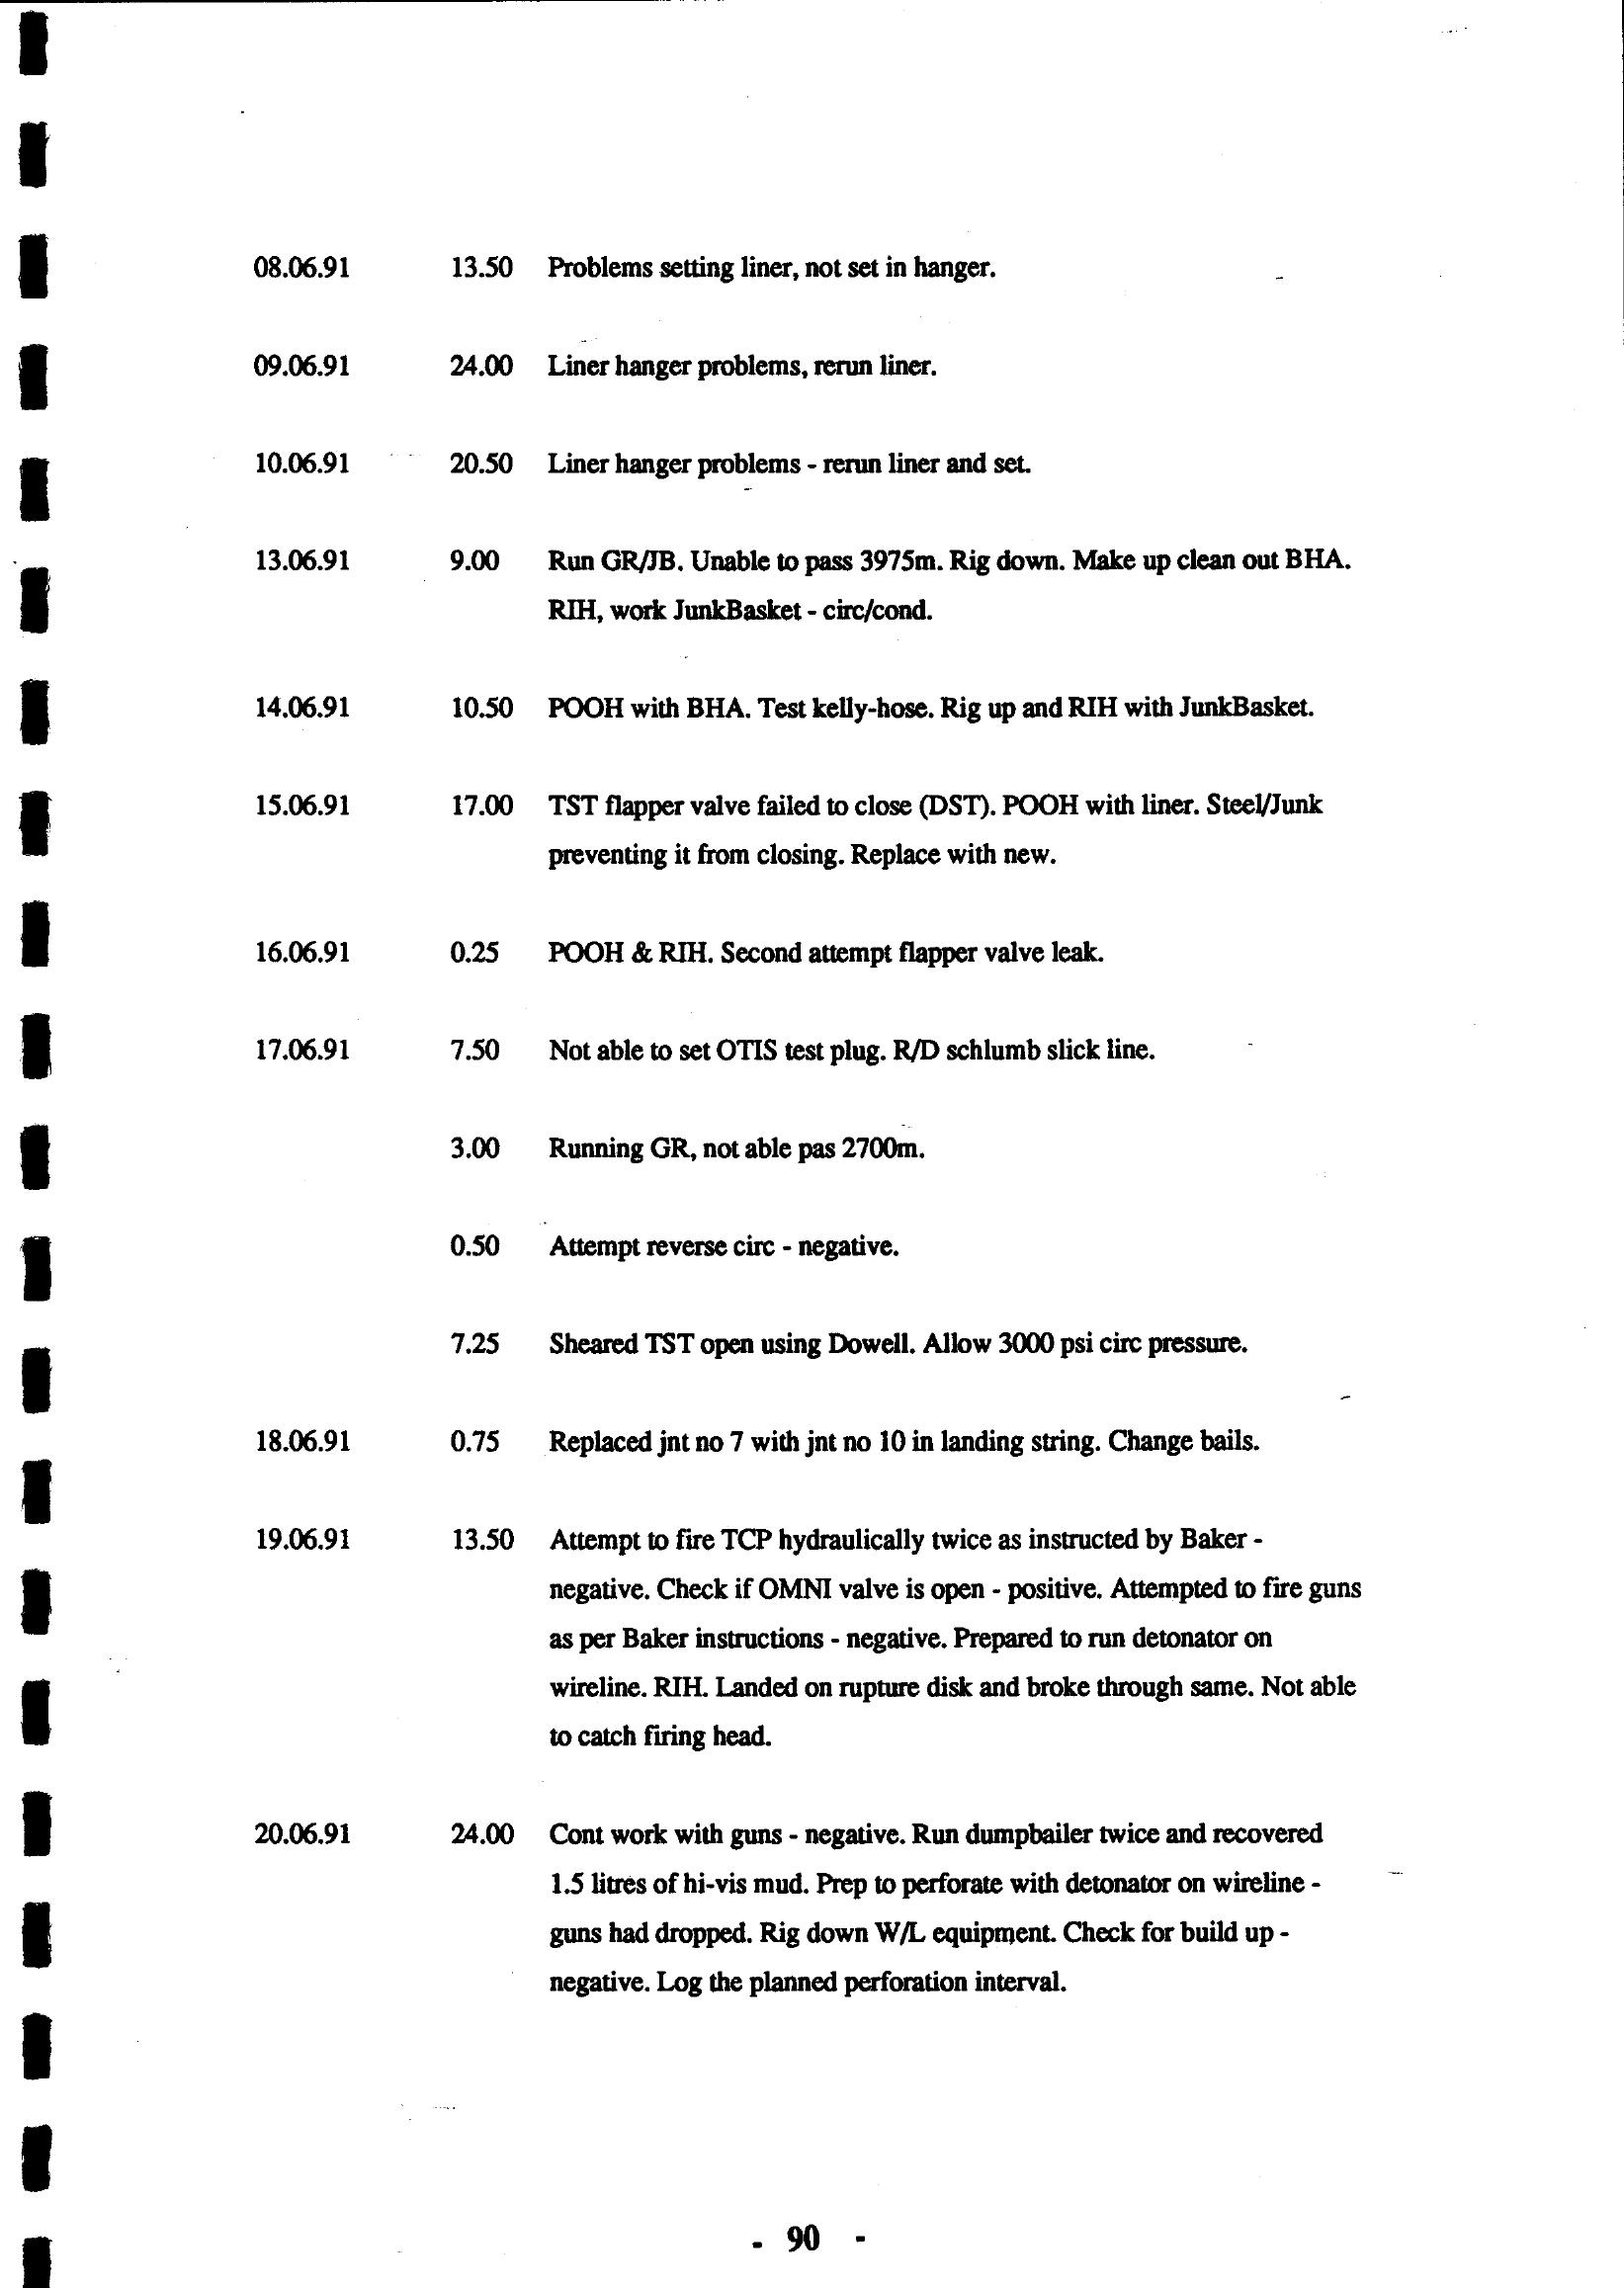text: (169, 204, 1417, 2061)
